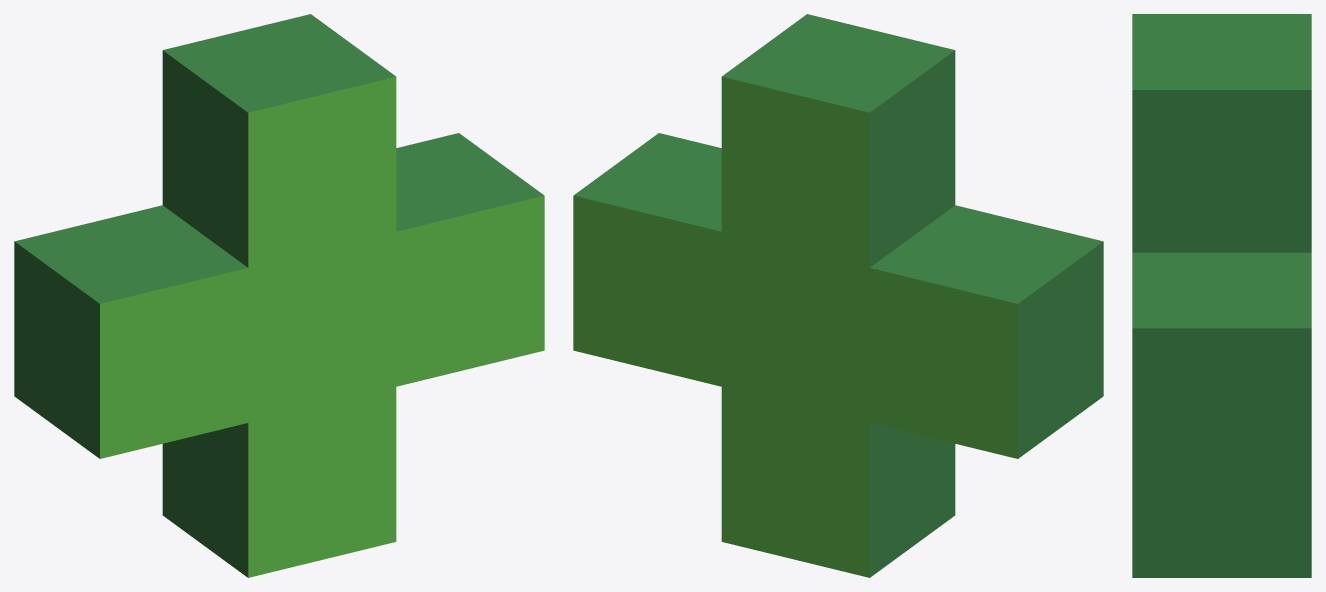
File: healthpack.glb
3 views of the same model, side by side, from view 1: azimuth 30°, elevation 25°; view 2: azimuth 150°, elevation 25°; view 3: azimuth 270°, elevation 25° (orthographic). The views are drawn at different scales.
Visible parts, largest first — view 1: HealthPack; view 2: HealthPack; view 3: HealthPack.
Boxes of the visible parts, box(x1,y1,x2,y2) form: HealthPack: box(14, 14, 544, 577); HealthPack: box(573, 14, 1103, 577); HealthPack: box(1132, 14, 1311, 577).
Size of the model in its own units: 0.45 by 0.45 by 0.15.
1 material, 1 textured.
